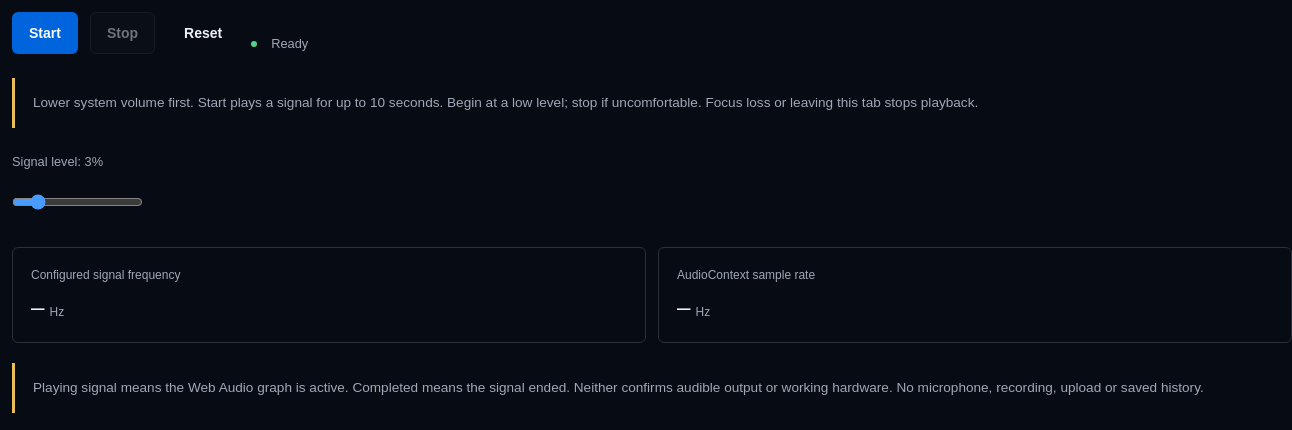
Test: cleans a pending resume on unmount and cannot play after its late resolution
Click the button "Start" at (45, 33), box x1=12 y1=12 x2=78 y2=54
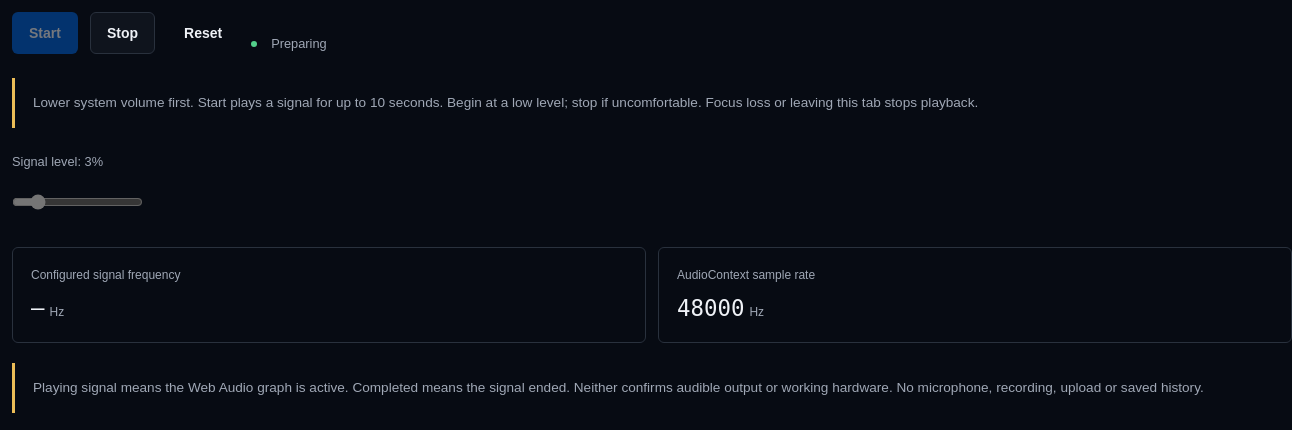
Expected: the message with class "status" reads "Preparing", x1=271 y1=36 x2=327 y2=51
